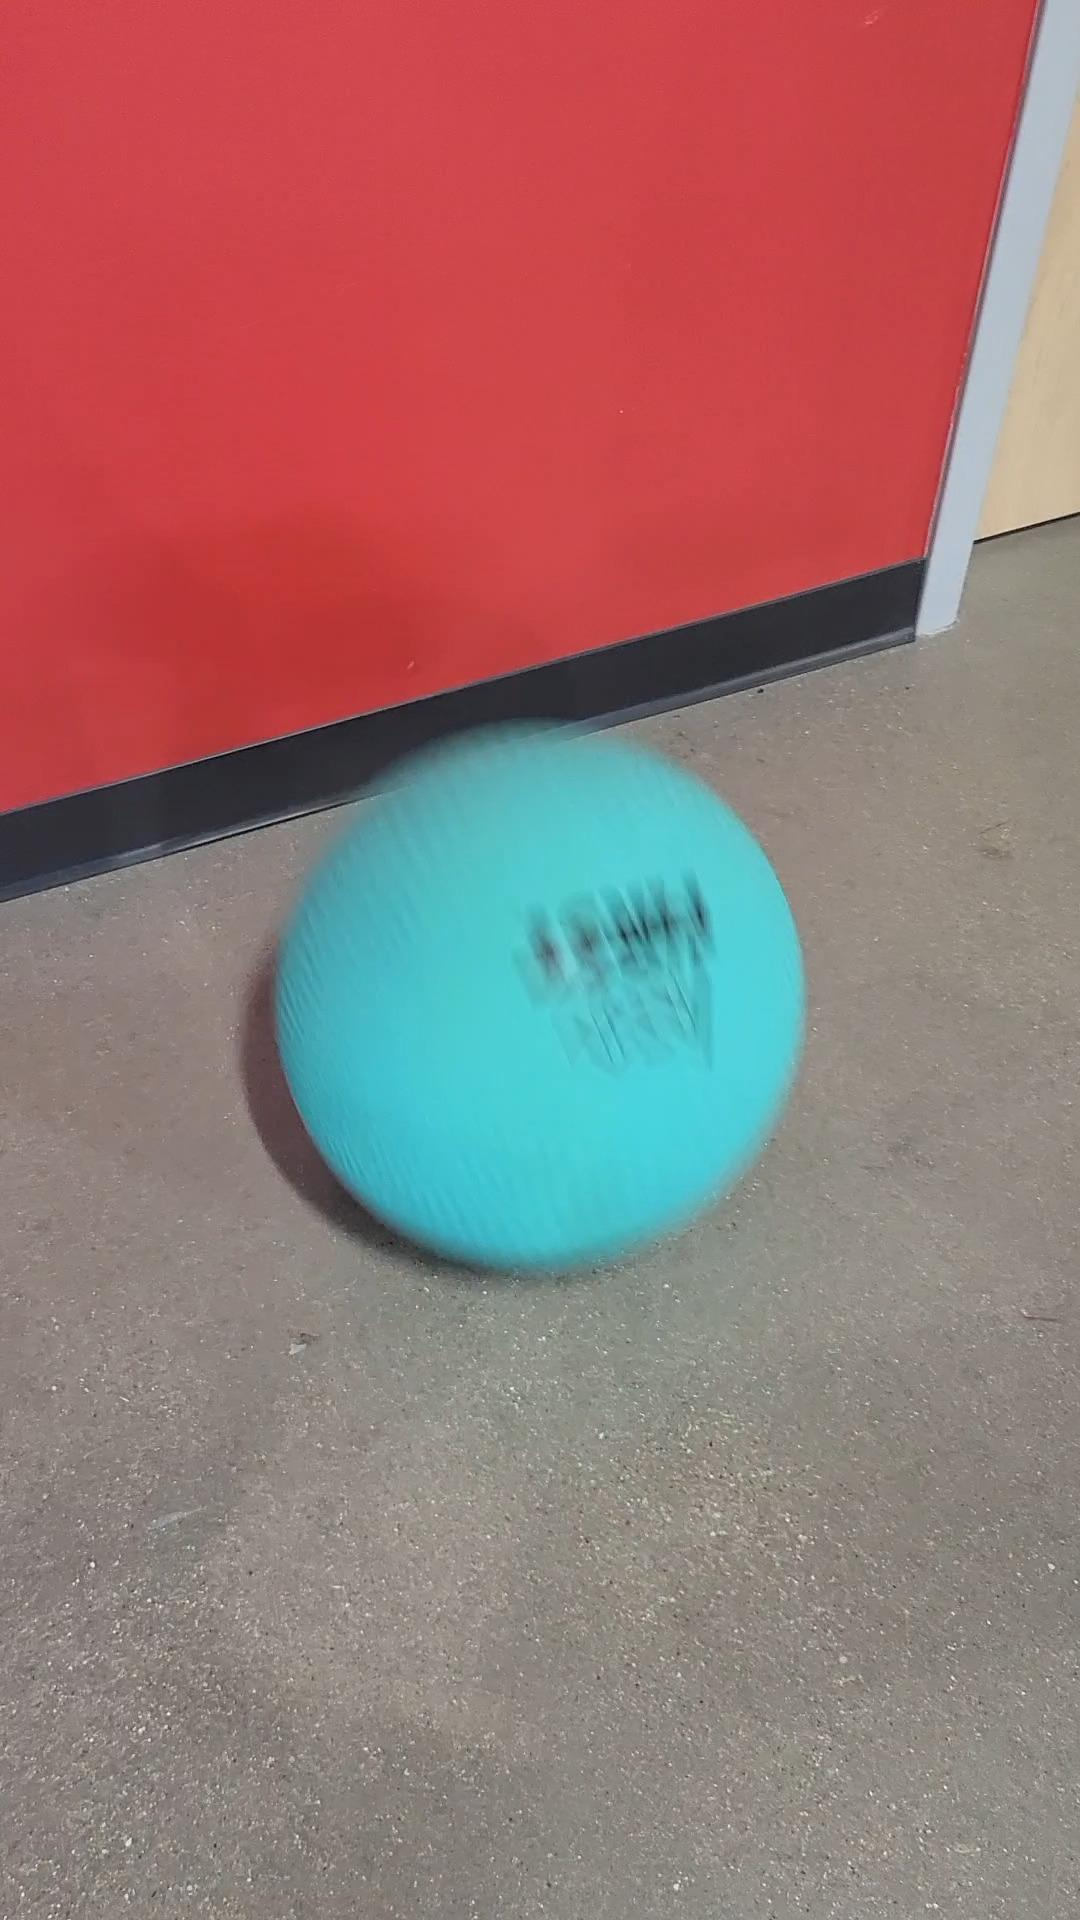algae: (286, 727, 807, 1278)
